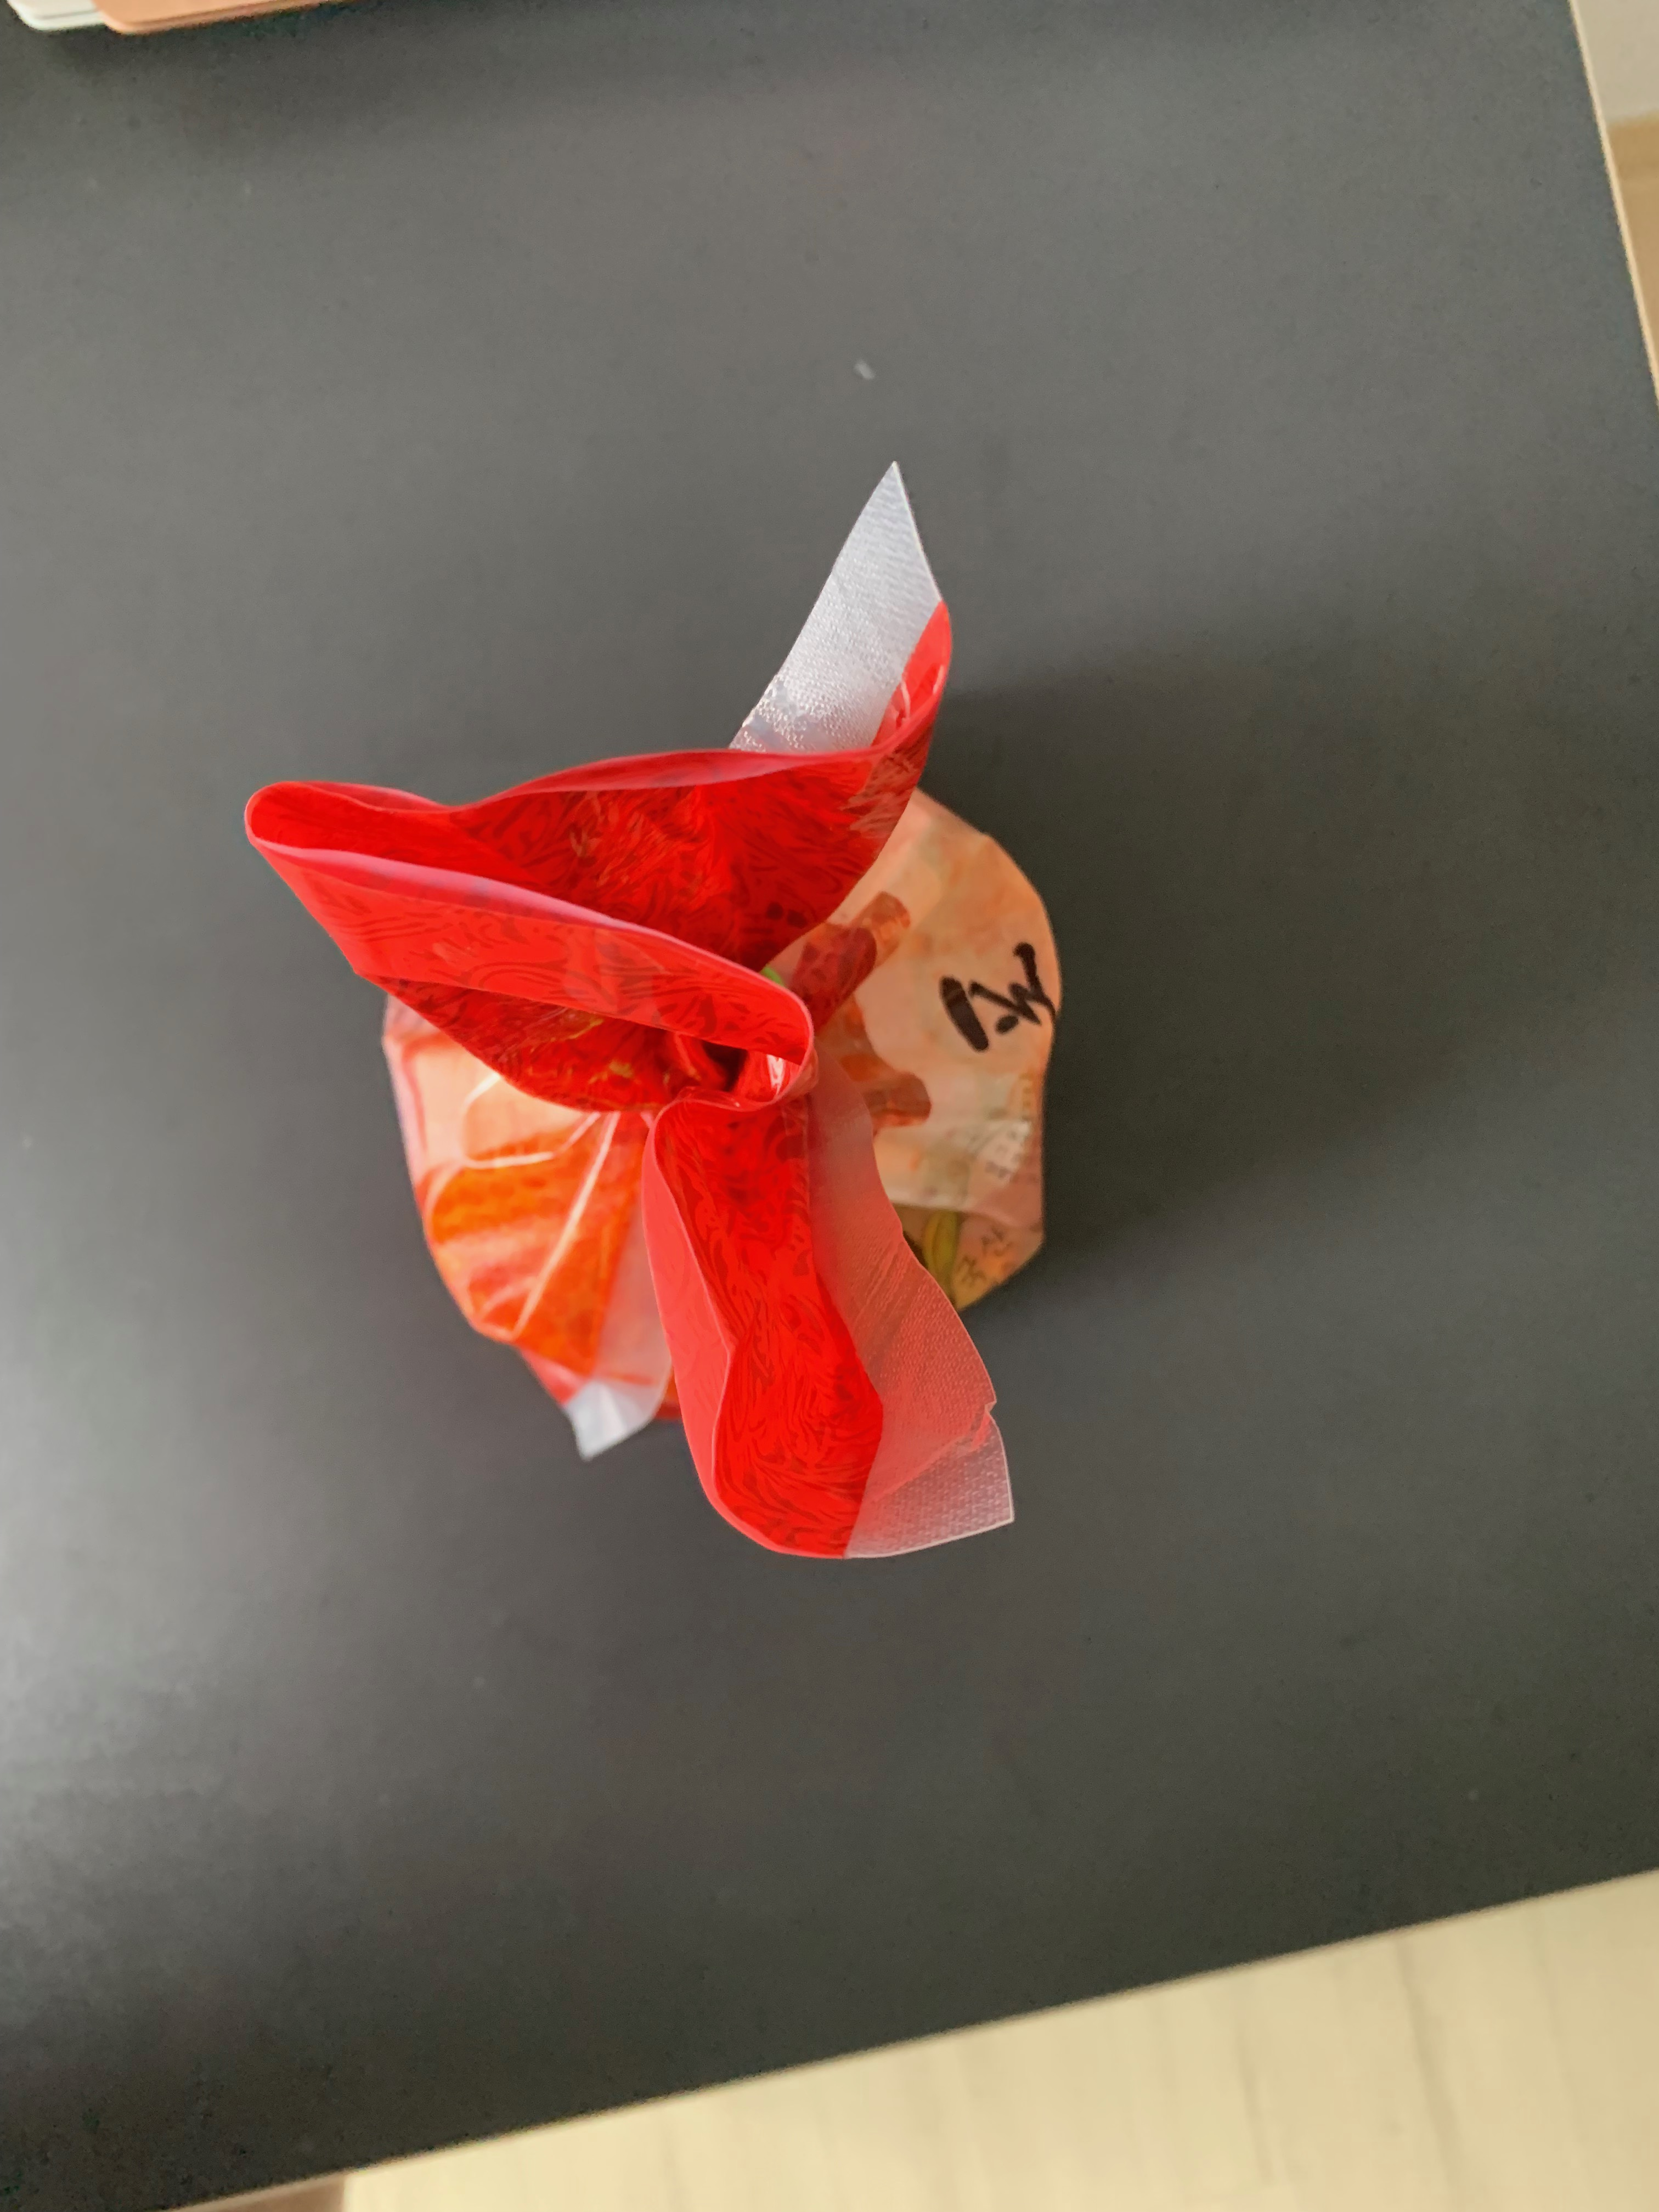kimchi: (242, 749, 1060, 1550)
